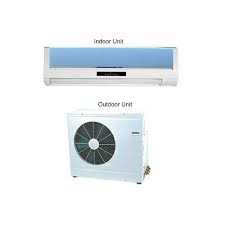ac: (41, 43, 182, 91)
